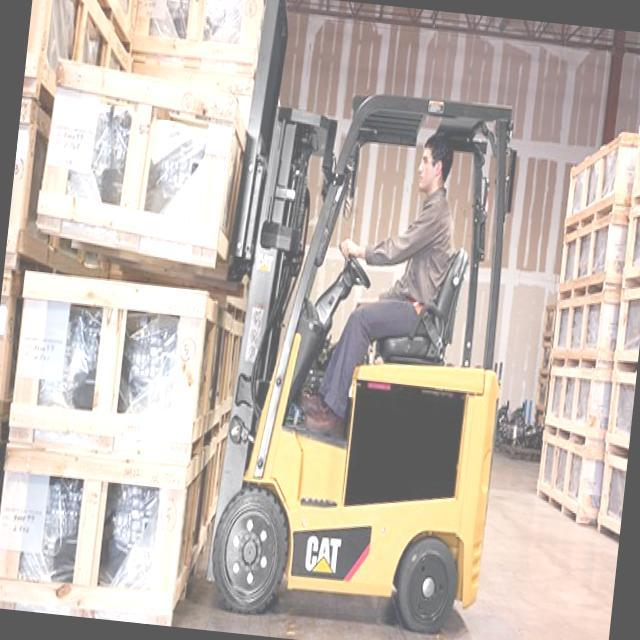driver: (311, 120, 472, 394)
forklift: (199, 61, 528, 624)
